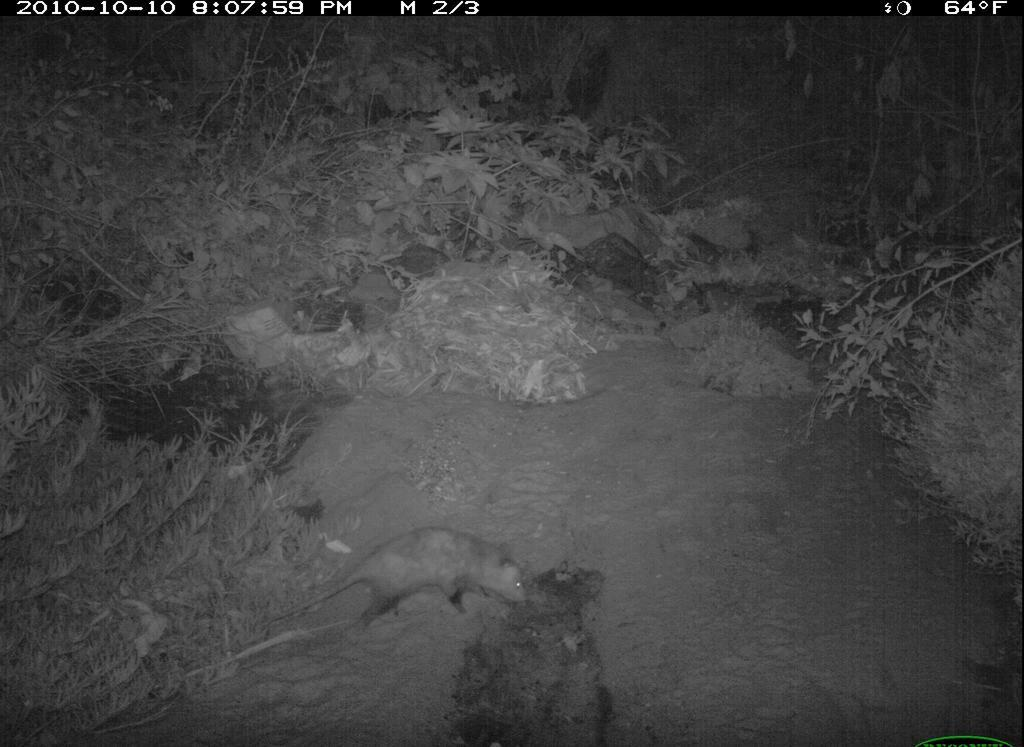opossum: (262, 520, 537, 635)
